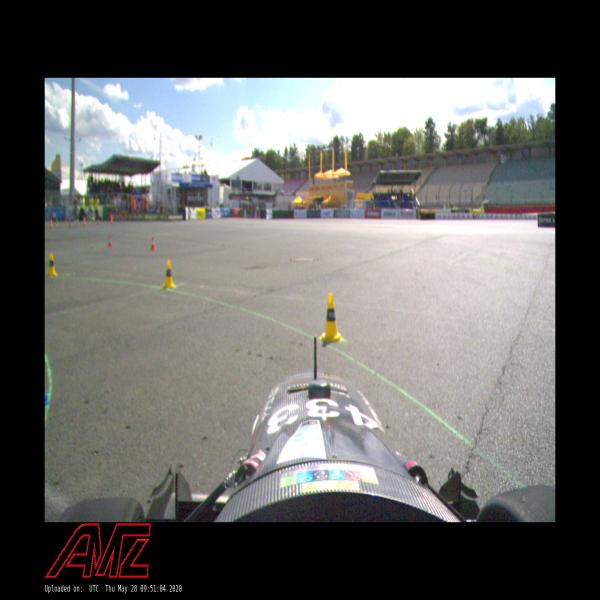orange_cone: (149, 236, 156, 251), (107, 235, 112, 248)
yellow_cone: (320, 293, 343, 341), (162, 260, 175, 288), (46, 251, 57, 276)
